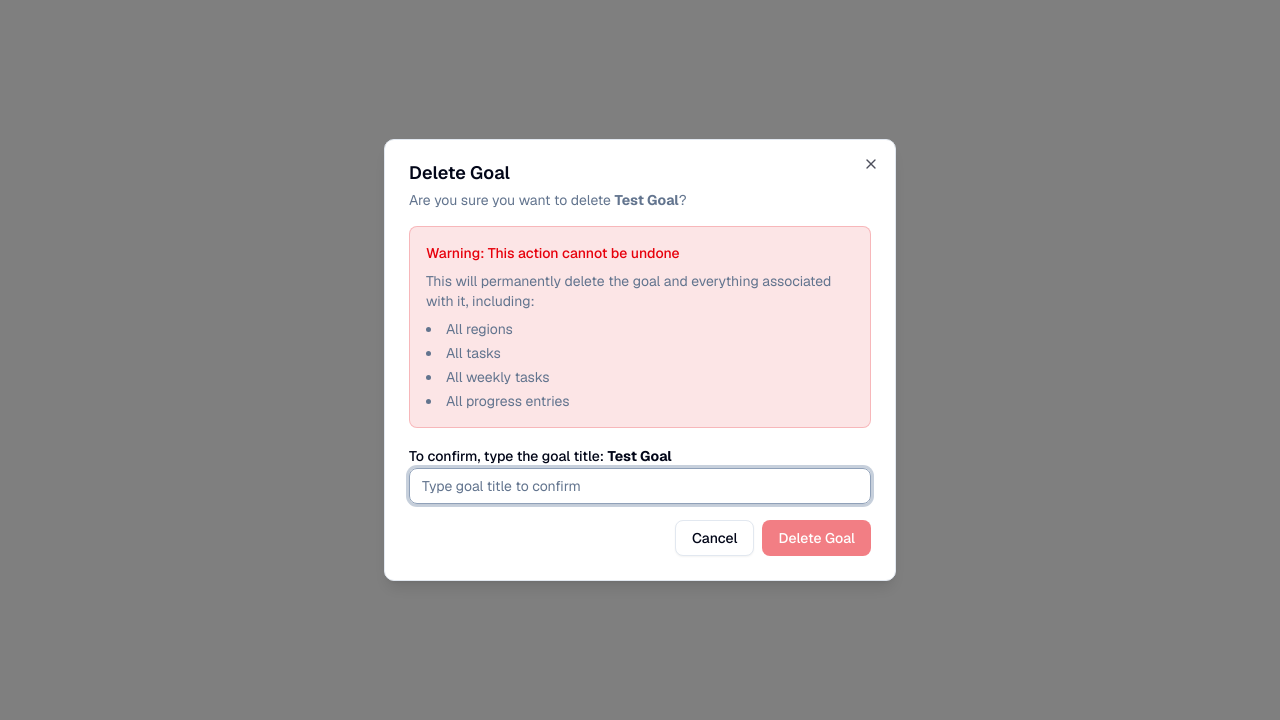
DeleteGoalDialog › displays error message on failure
The image size is (1280, 720).
Type "Test Goal" into the field with placeholder "Type goal title to confirm".
click(640, 486); type("Test Goal")  # box [409,468,871,504]
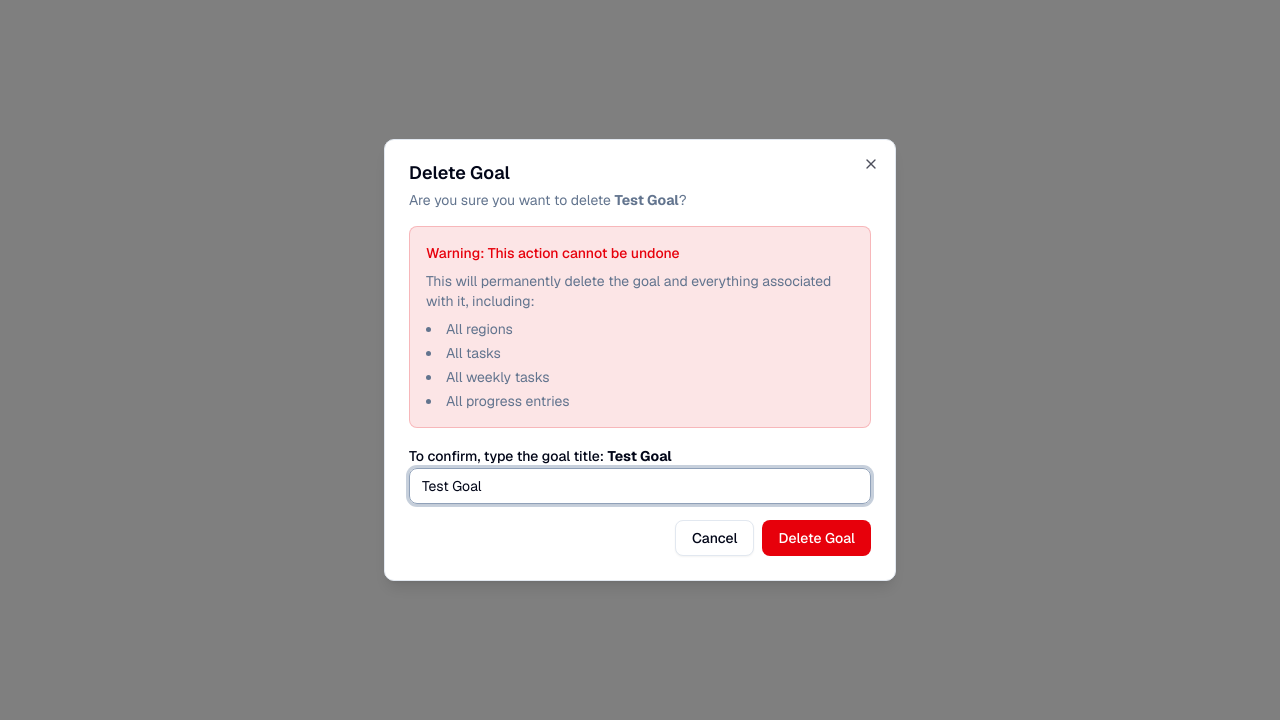
Click the button "Delete Goal".
click(817, 538)  # box [762,520,871,556]
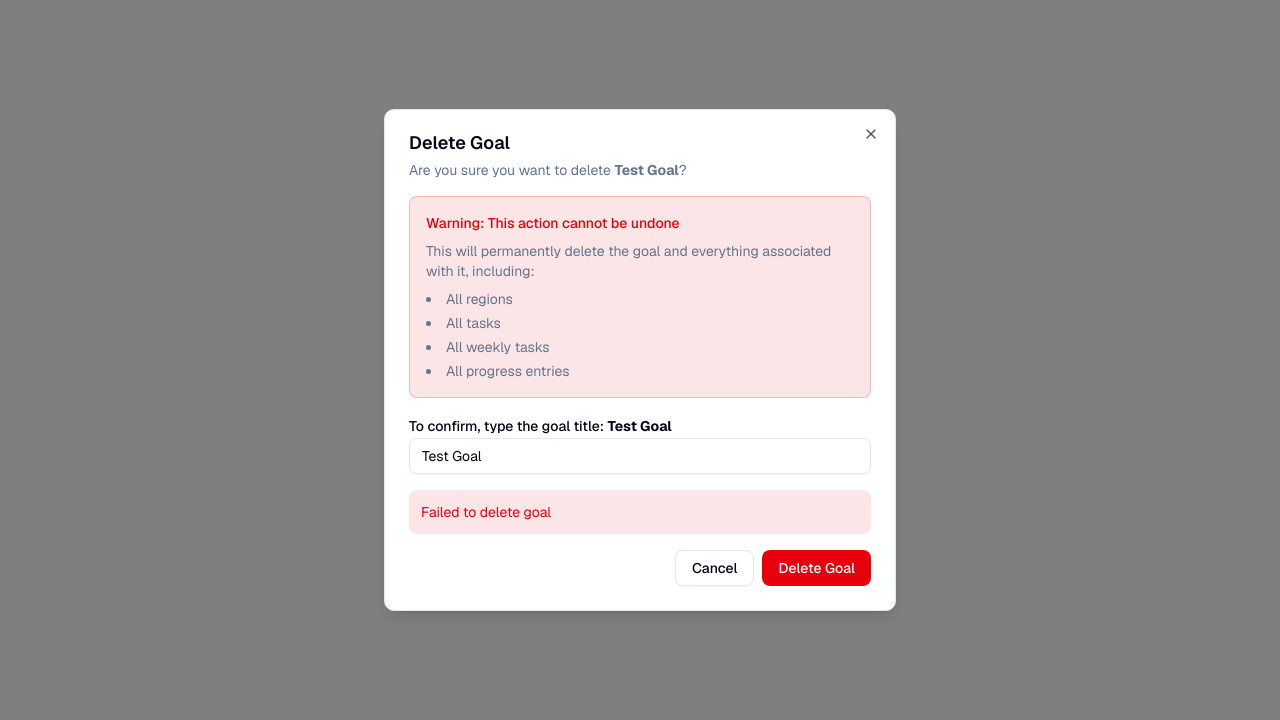
Expected: the text "Failed to delete goal" is shown, [409,490,871,534]
